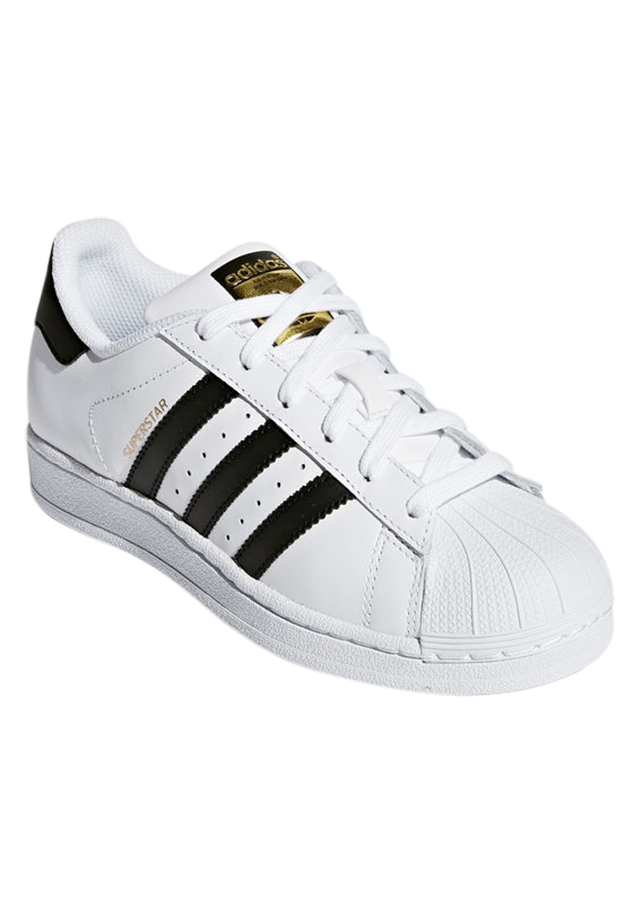Adidas: (214, 251, 297, 288)
